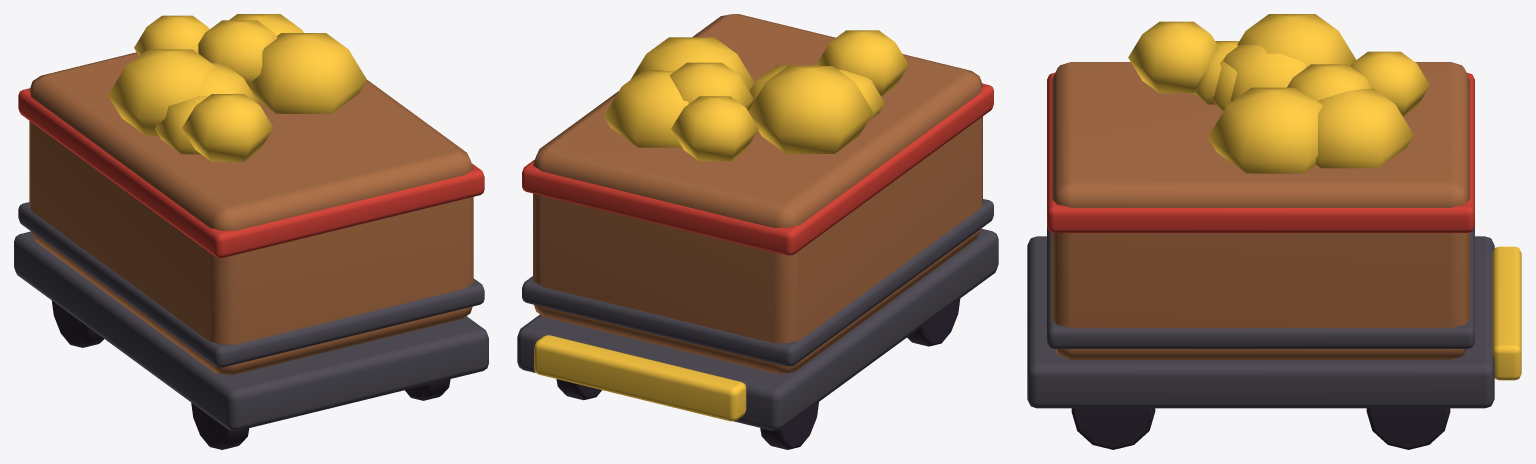
File: gulch_coaster_car.glb
3 views of the same model, side by side, from view 1: azimuth 30°, elevation 25°; view 2: azimuth 150°, elevation 25°; view 3: azimuth 270°, elevation 25° (orthographic). The views are drawn at different scales.
Visible parts, largest first — view 1: CoasterCar; view 2: CoasterCar; view 3: CoasterCar.
Boxes of the visible parts, box(x1,y1,x2,y2) form: CoasterCar: box(14, 14, 488, 449); CoasterCar: box(517, 14, 998, 449); CoasterCar: box(1027, 14, 1521, 449).
Bounding box in the file's own units: 1.34 × 1.53 × 2.01.
